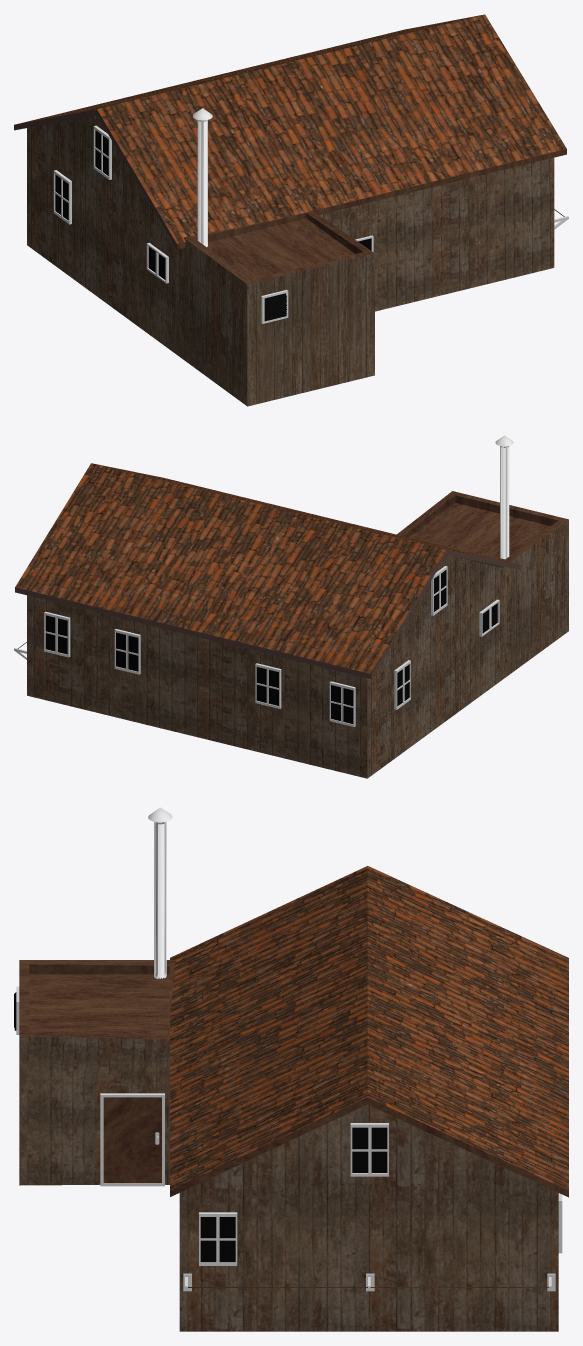
File: house.fbx
3 renders of one model, top to bottom at view 1: azimuth 30°, elevation 25°; view 2: azimuth 150°, elevation 25°; view 3: azimuth 270°, elevation 25°, orthographic. The views are drawn at different scales.
Visible parts, largest first — view 1: house; view 2: house; view 3: house.
Part boxes in pixels (x1,y1,x2,y2): house: (14,14,568,406); house: (14,435,568,778); house: (14,807,568,1331).
Size of the model in its own units: 4493 by 2731 by 4435.
Materials: 1 (1 with a texture image).
